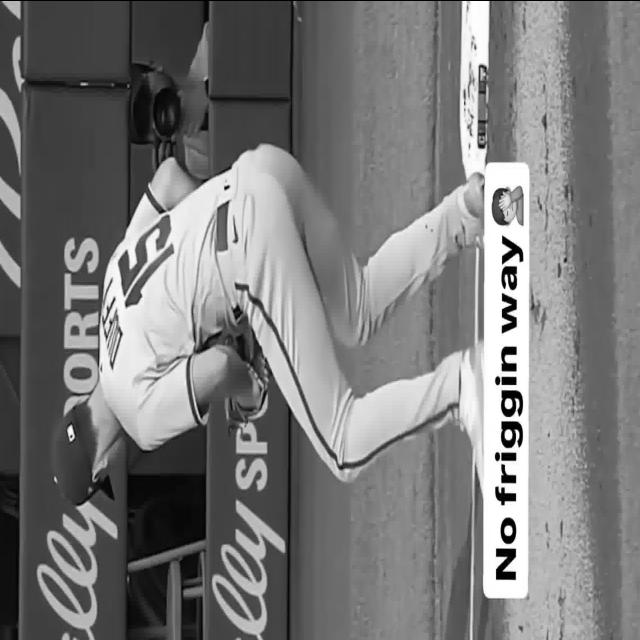base: (460, 0, 490, 175)
baseball_glove: (226, 304, 261, 362), (225, 389, 268, 427)
shoe: (459, 340, 484, 490), (458, 171, 484, 247)
